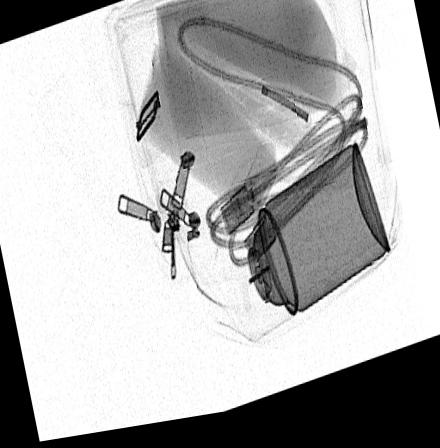Sprayer: (220, 150, 391, 346)
